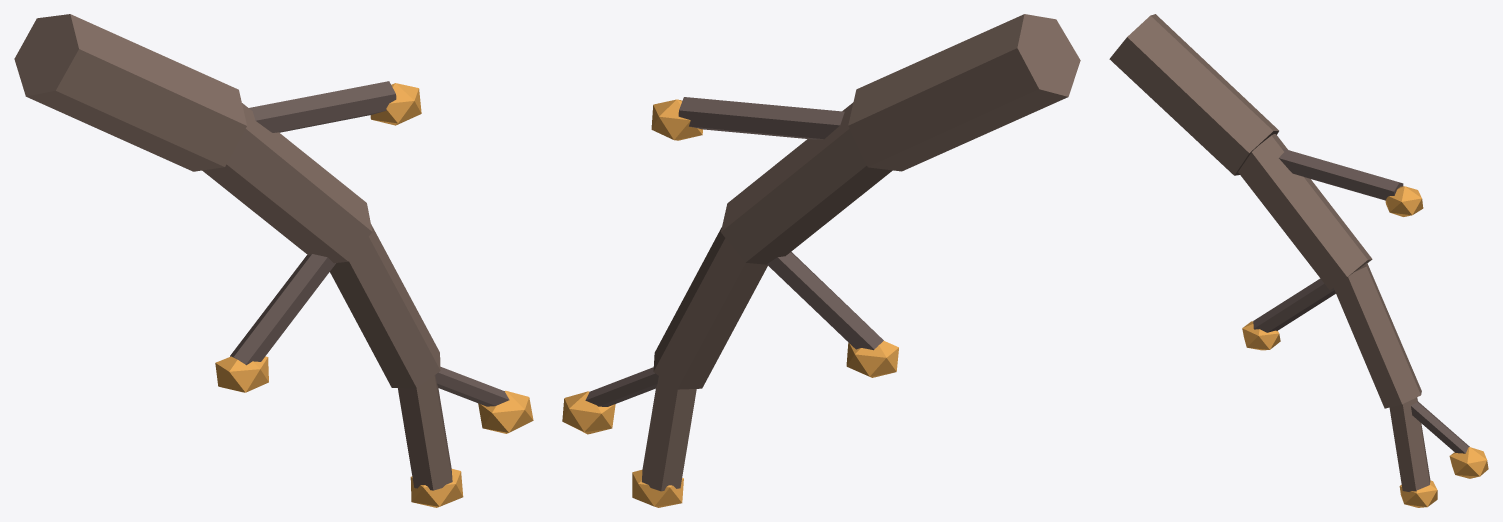
File: Branch.fbx
3 renders of one model, left to right at view 1: azimuth 30°, elevation 25°; view 2: azimuth 150°, elevation 25°; view 3: azimuth 330°, elevation 25°, orthographic. The views are drawn at different scales.
Visible parts, largest first — view 1: Branch; view 2: Branch; view 3: Branch.
Part boxes in pixels (box(x1,y1,x2,y2)): Branch: box(14, 14, 533, 507); Branch: box(562, 14, 1080, 507); Branch: box(1109, 14, 1488, 507).
Size of the model in its own units: 2.76 by 3.05 by 0.4181.
